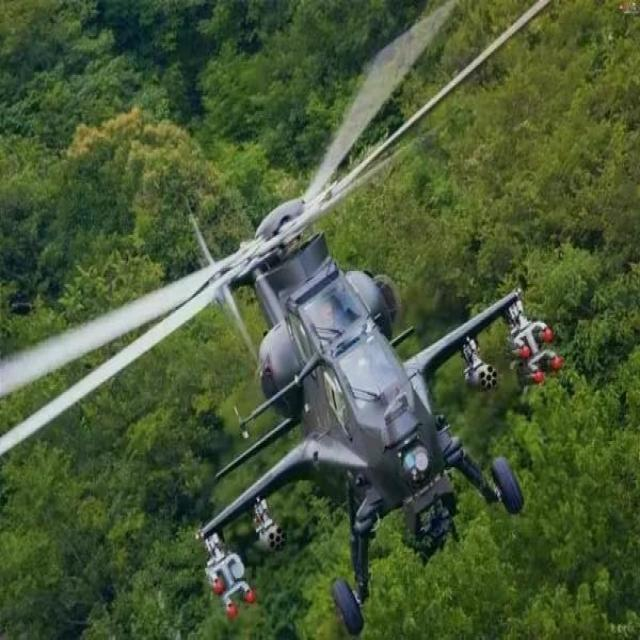MIL_HELO: (73, 107, 552, 631)
